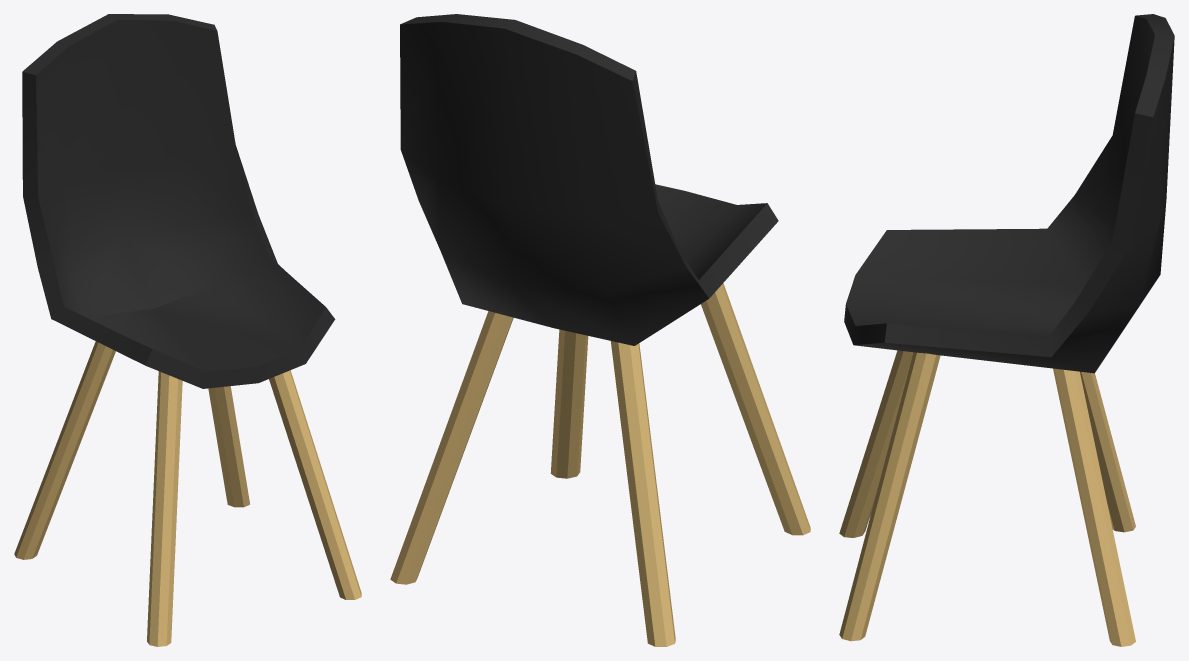
Rendered from black_chair.glb.
3 renders of one model, left to right at view 1: azimuth 30°, elevation 25°; view 2: azimuth 150°, elevation 25°; view 3: azimuth 270°, elevation 25°, orthographic. The views are drawn at different scales.
Visible parts, largest first — view 1: black chair, Cube.017; view 2: black chair, Cube.017; view 3: black chair, Cube.017.
Part boxes in pixels (left/top/right/bottom): black chair: left=22, top=14, right=335, bottom=388; Cube.017: left=14, top=341, right=361, bottom=646; black chair: left=400, top=14, right=778, bottom=345; Cube.017: left=390, top=283, right=810, bottom=646; black chair: left=844, top=14, right=1174, bottom=373; Cube.017: left=839, top=350, right=1135, bottom=646.
Bounding box in the file's own units: 0.4388 × 0.8946 × 0.4952.
